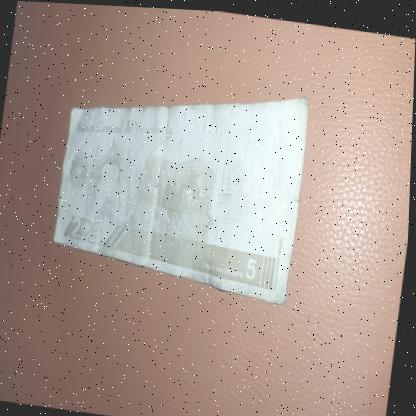five-back-vef: (50, 61, 314, 303)
